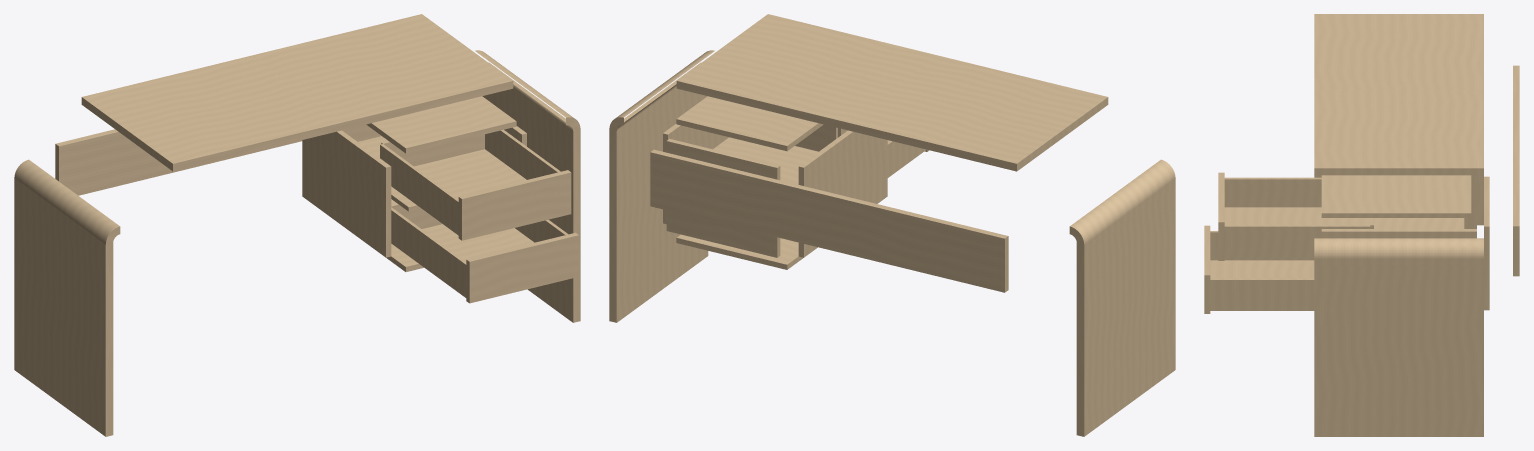
Rendered from escritorio_madera_clara_descompuesto.glb.
3 renders of one model, left to right at view 1: azimuth 30°, elevation 25°; view 2: azimuth 150°, elevation 25°; view 3: azimuth 270°, elevation 25°, orthographic. The views are drawn at different scales.
Parts seen in each view (by area): view 1: desk-top, left-leg, drawer-cabinet-left, right-leg, desk-apron, upper-drawer-front, lower-drawer-front, drawer-cabinet-top, upper-drawer-bottom, left-curve, lower-drawer-left, upper-drawer-left (+7 smaller); view 2: desk-top, desk-apron, left-leg, right-leg, drawer-cabinet-left, drawer-cabinet-top, drawer-cabinet-back, left-curve, drawer-divider, drawer-cabinet-base, right-curve, drawer-cabinet-right (+2 smaller); view 3: right-leg, desk-top, drawer-cabinet-top, right-curve, lower-drawer-right, upper-drawer-right, upper-drawer-left, upper-drawer-bottom, lower-drawer-bottom, drawer-cabinet-right, desk-apron, drawer-divider (+6 smaller).
Boxes of the visible parts, x1,y1,x2,y2 form: desk-top: (81,14,513,171); left-leg: (14,178,113,436); drawer-cabinet-left: (302,130,391,257); right-leg: (482,62,580,322); desk-apron: (55,129,302,195); upper-drawer-front: (458,170,571,240); lower-drawer-front: (466,232,578,303); drawer-cabinet-top: (366,96,516,153); upper-drawer-bottom: (414,149,526,198); left-curve: (14,159,120,244); lower-drawer-left: (391,207,466,297); upper-drawer-left: (380,144,458,235); desk-top: (676,14,1108,171); desk-apron: (650,149,1008,292); left-leg: (1076,178,1175,436); right-leg: (609,62,708,322); drawer-cabinet-left: (798,130,887,257); drawer-cabinet-top: (676,96,823,151); drawer-cabinet-back: (666,138,780,257); left-curve: (1069,159,1175,244); drawer-divider: (713,137,818,184); drawer-cabinet-base: (676,234,803,269); right-curve: (609,50,714,130); drawer-cabinet-right: (663,124,728,224); right-leg: (1314,259,1483,436); desk-top: (1314,14,1483,175); drawer-cabinet-top: (1321,175,1471,217); right-curve: (1314,238,1483,258); lower-drawer-right: (1210,278,1314,310); upper-drawer-right: (1224,225,1370,257); upper-drawer-left: (1224,177,1321,207); upper-drawer-bottom: (1224,207,1370,225); lower-drawer-bottom: (1210,260,1314,278); drawer-cabinet-right: (1321,229,1476,238); desk-apron: (1513,65,1519,276); drawer-divider: (1374,218,1464,228).
Bounding box in the file's own units: 1.8 × 0.93 × 1.12.
Materials: 1 (1 with a texture image).
